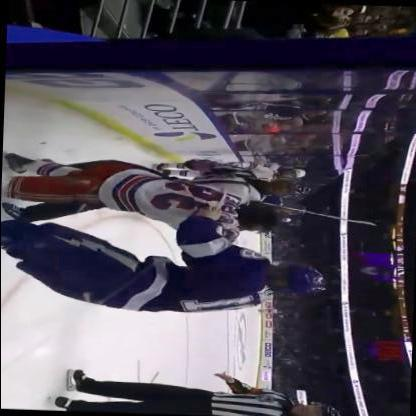voilence: (1, 155, 327, 318)
